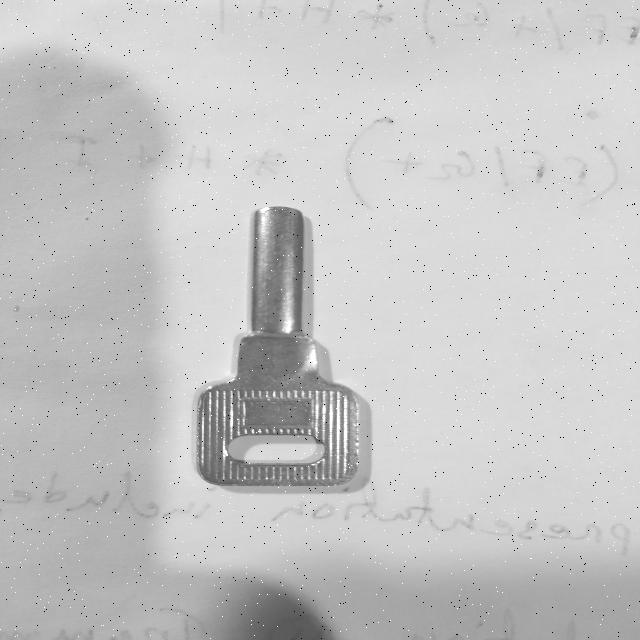key: (197, 207, 359, 486)
